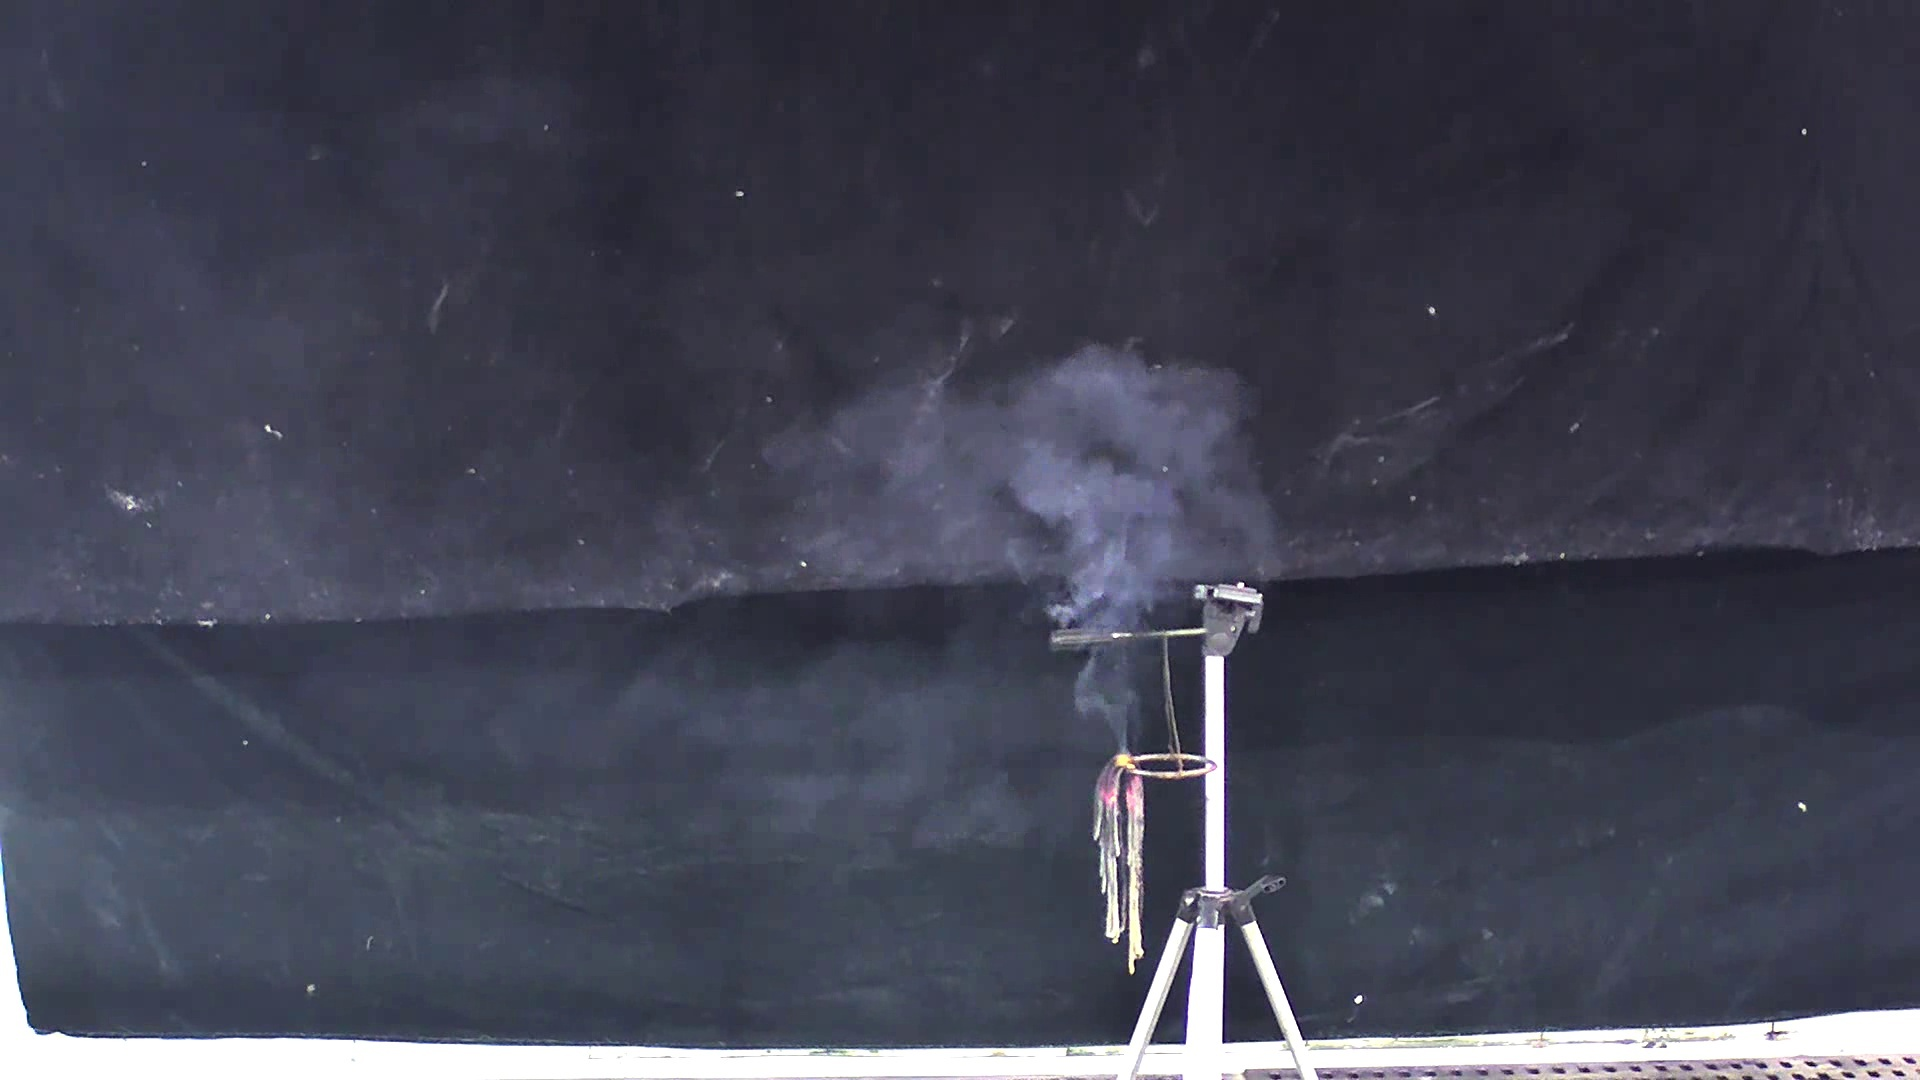smoke: (758, 287, 1286, 760)
